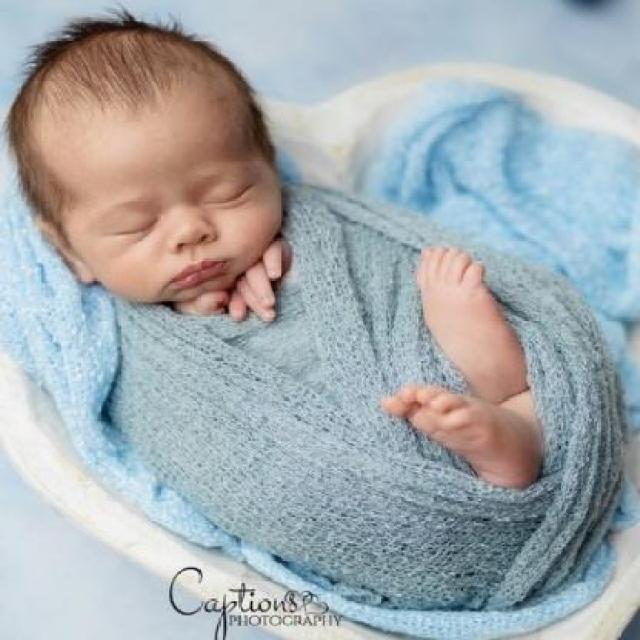baby: (3, 19, 614, 618)
